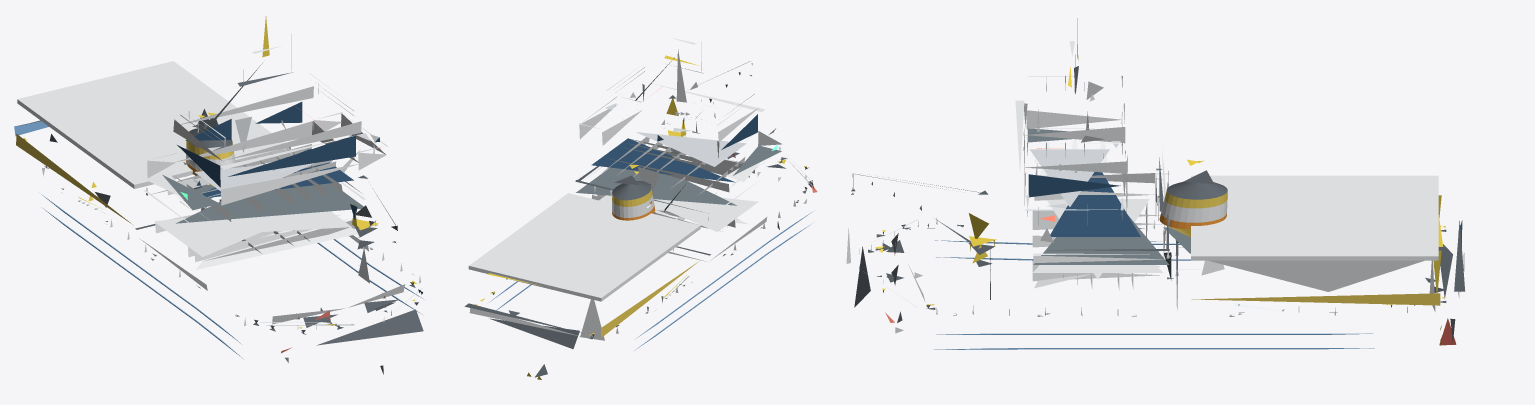
The model's file is ship_07.glb.
The picture shows the model from 3 angles, left to right: view 1: azimuth 30°, elevation 25°; view 2: azimuth 150°, elevation 25°; view 3: azimuth 270°, elevation 25°; orthographic projection. The views are drawn at different scales.
Visible parts, largest first — view 1: TrueHelm_Ship_07; view 2: TrueHelm_Ship_07; view 3: TrueHelm_Ship_07.
Boxes of the visible parts, x1,y1,x2,y2 form: TrueHelm_Ship_07: [14, 16, 423, 374]; TrueHelm_Ship_07: [464, 38, 817, 379]; TrueHelm_Ship_07: [846, 18, 1465, 349].
Size of the model in its own units: 0.1847 by 0.2791 by 0.5138.
